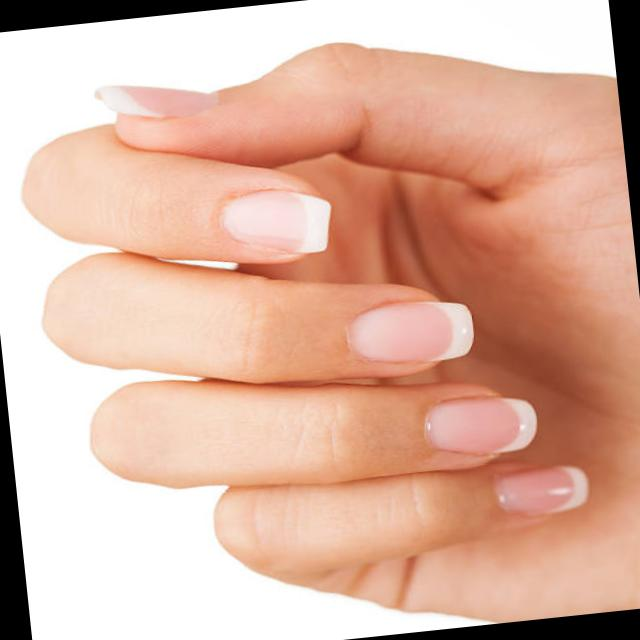Nail: (348, 301, 473, 362), (223, 190, 331, 253), (425, 397, 537, 454), (494, 467, 587, 515), (95, 85, 217, 117)
